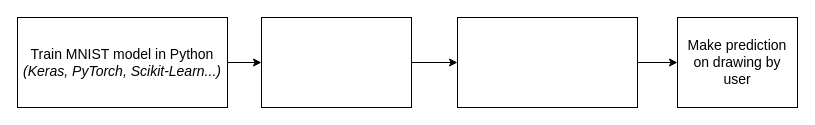
Some shapes in this 815 by 125 pixel diagram are drawn without their labels. The centre of each missing label's shape, as x and y in pixels:
Load model in browser (with ONNX Web Runtime): the point at 547,62
Save model in ONNX format: the point at 336,62
